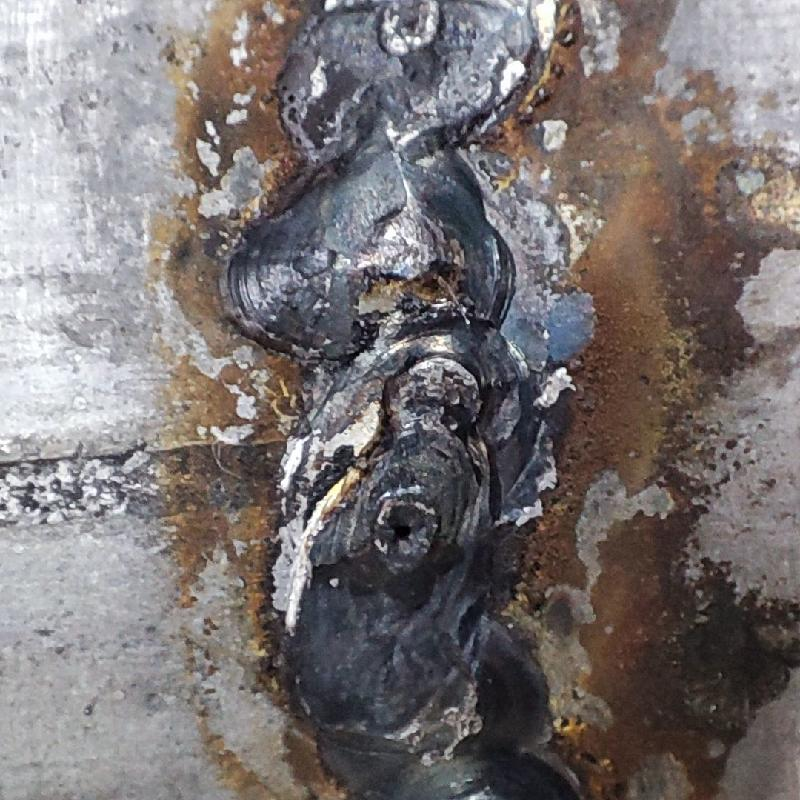Surface_pores: (371, 508, 428, 554)
wrong_size: (270, 4, 558, 797)
